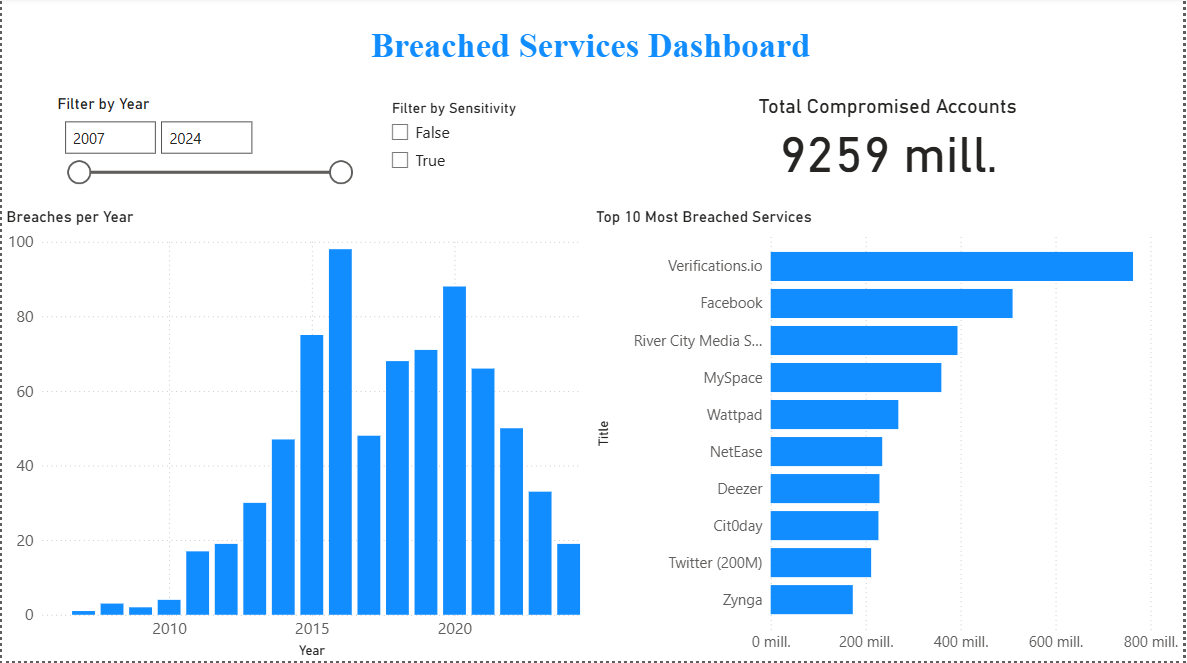

The page's visual inventory and layout, read from the dashboard file:
{"tool":"powerbi","page":{"name":"Página 1","canvas":[1280,720],"ordinal":0},"visuals":[{"type":"columnChart","title":"Breaches per Year","fields":{"Category":["Sheet1.Year"],"Y":["CountNonNull(Sheet1.Domain)"]},"box":[0,227.7,639.2,492.8],"z":0},{"type":"clusteredBarChart","title":"Top 10 Most Breached Services","fields":{"Category":["Sheet1.Title"],"Y":["Sum(Sheet1.PwnCount)"]},"box":[639.2,227.7,640.9,492.8],"z":1},{"type":"slicer","fields":{"Values":["Sheet1.IsSensitive"]},"box":[409.9,105.7,196.8,105.7],"z":2},{"type":"slicer","title":"Filter  by Year","fields":{"Values":["Sheet1.Year"]},"box":[55.3,105.7,333.4,105.7],"z":3},{"type":"textbox","box":[336.7,26,603.4,63.4],"z":4},{"type":"card","title":"Total Compromised Accounts","fields":{"Values":["Sum(Sheet1.PwnCount)"]},"box":[792.1,105.7,336.7,91.1],"z":5}]}

Visuals, with their boxes in screenshot pixels (x1, y1, x2, y2), scaled from the page's 1280x720 canvas onto the 1187x663 screenshot:
"Breaches per Year" columnChart: {"x1": 0, "y1": 210, "x2": 593, "y2": 662}
"Top 10 Most Breached Services" clusteredBarChart: {"x1": 593, "y1": 210, "x2": 1186, "y2": 662}
slicer - Sheet1.IsSensitive: {"x1": 380, "y1": 97, "x2": 563, "y2": 195}
"Filter  by Year" slicer: {"x1": 51, "y1": 97, "x2": 360, "y2": 195}
textbox: {"x1": 312, "y1": 24, "x2": 872, "y2": 82}
"Total Compromised Accounts" card: {"x1": 735, "y1": 97, "x2": 1047, "y2": 181}
